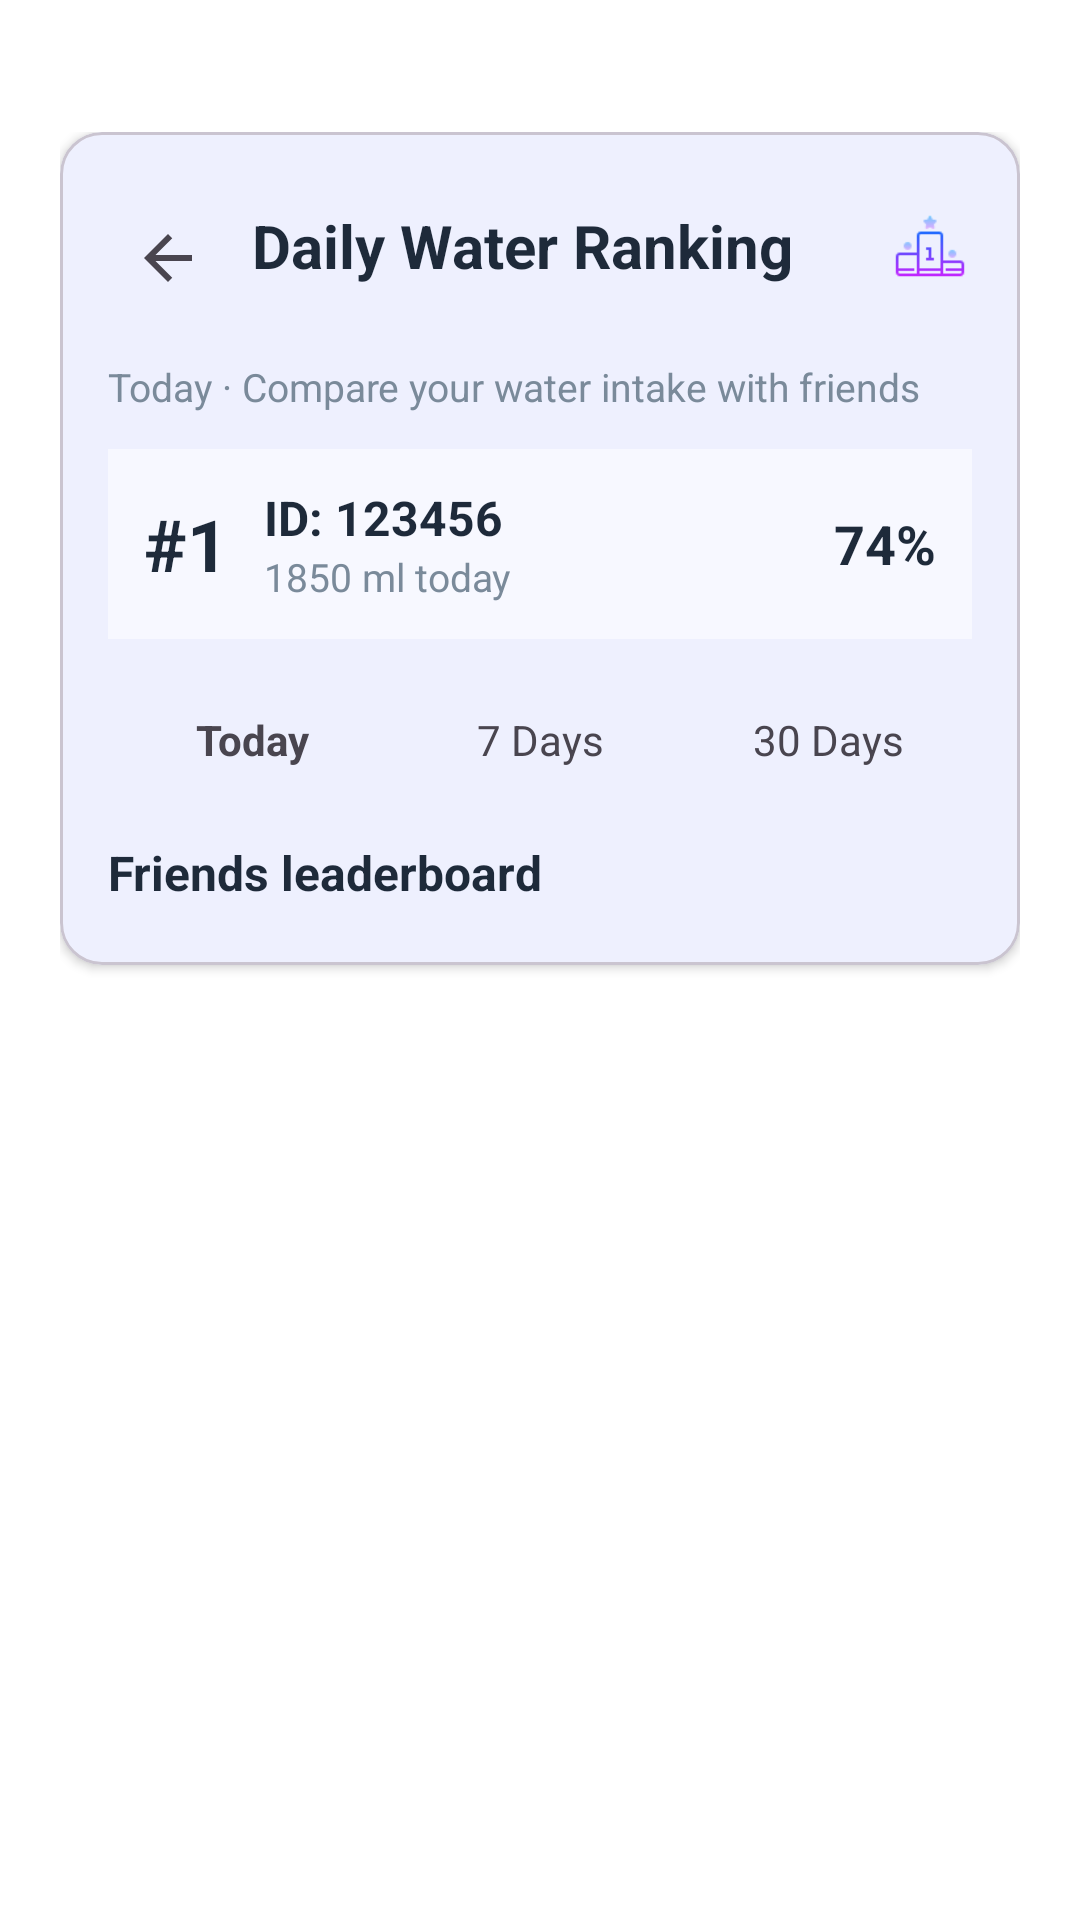

Screen size 1080px x 1920px. Icon name, then its center in pixels as (x,y):
Go back: (168,258)
